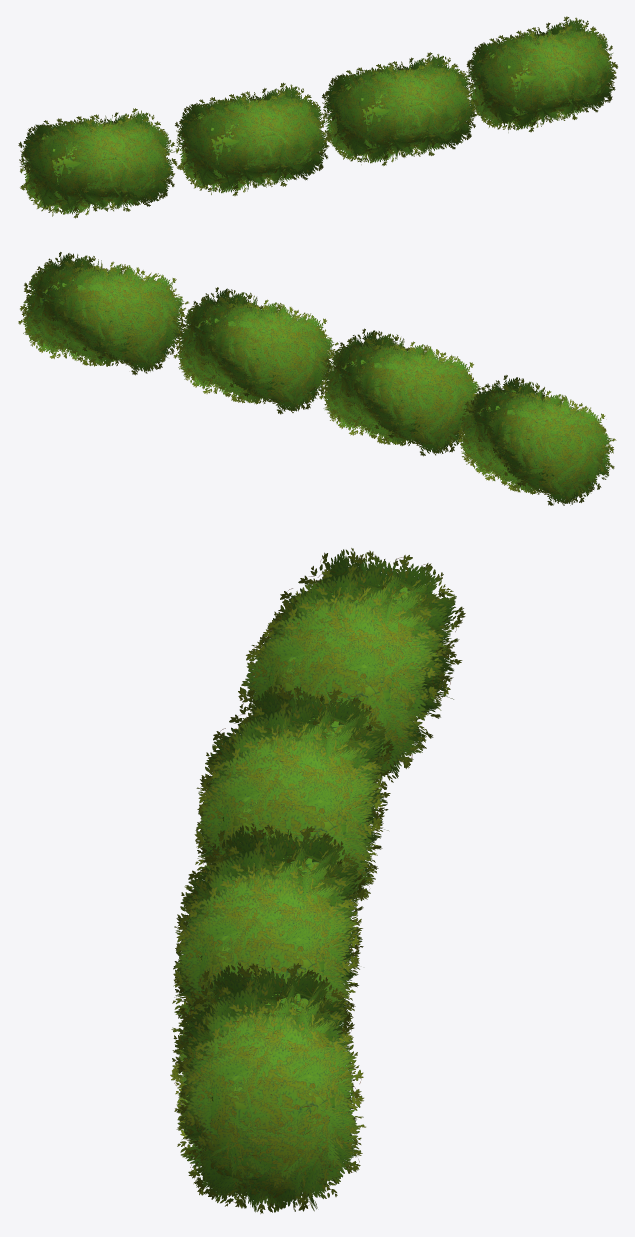
File: SM_Bush06_Splines_9.fbx
3 views of the same model, one above another, from view 1: azimuth 30°, elevation 25°; view 2: azimuth 150°, elevation 25°; view 3: azimuth 270°, elevation 25° (orthographic). The views are drawn at different scales.
Parts seen in each view (by area): view 1: SM_Bush06_Splines_9_LOD0; view 2: SM_Bush06_Splines_9_LOD0; view 3: SM_Bush06_Splines_9_LOD0.
Part boxes in pixels (x1,y1,x2,y2): SM_Bush06_Splines_9_LOD0: [18, 16, 617, 218]; SM_Bush06_Splines_9_LOD0: [18, 252, 616, 505]; SM_Bush06_Splines_9_LOD0: [170, 548, 465, 1213].
Bounding box in the file's own units: 1047 × 248 × 166.
